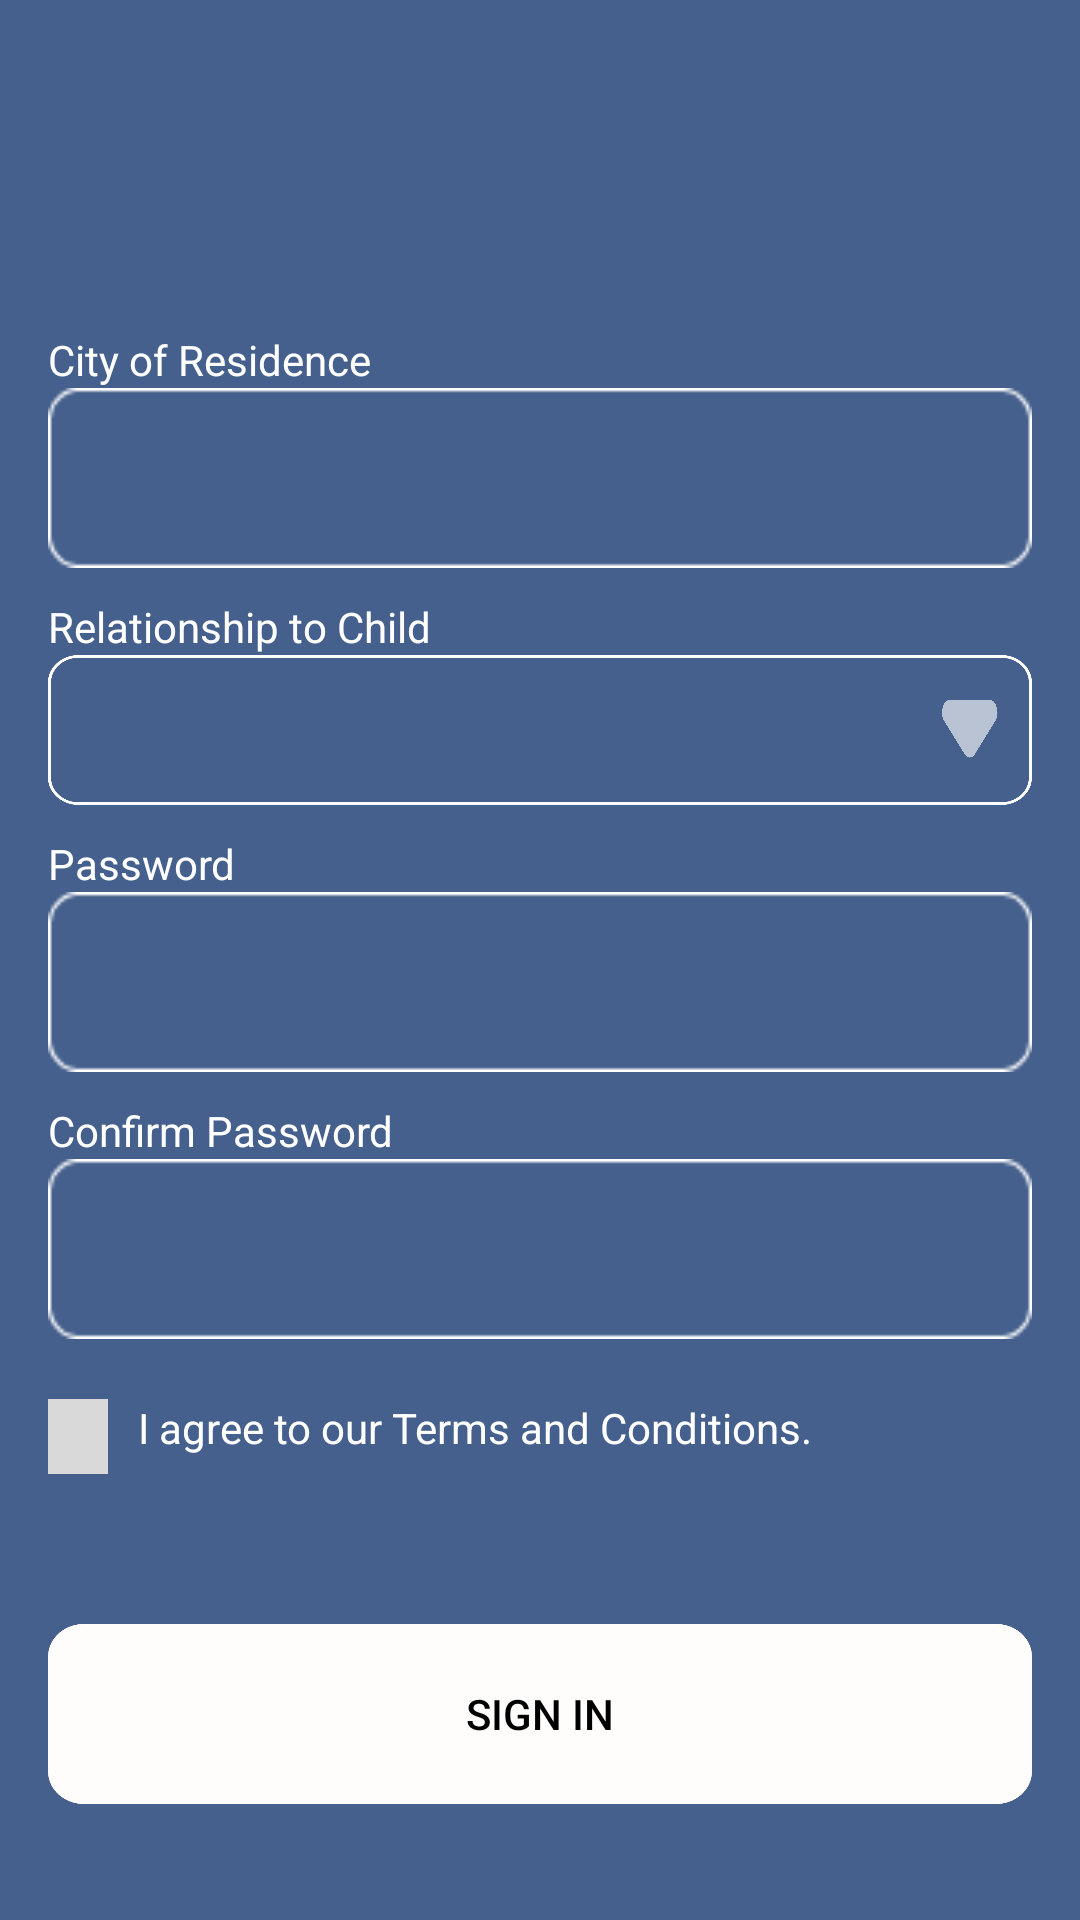

Icon bounding boxes for this 1080 x 1920 phone screenshot, format (x1, y1, x2, y2):
seven down arrow: (942, 700, 998, 758)
